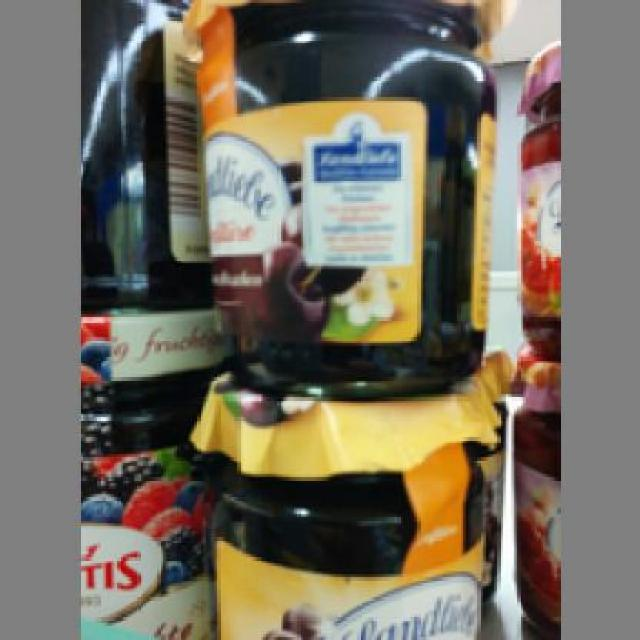Jam: (183, 0, 500, 397), (197, 374, 497, 637)
